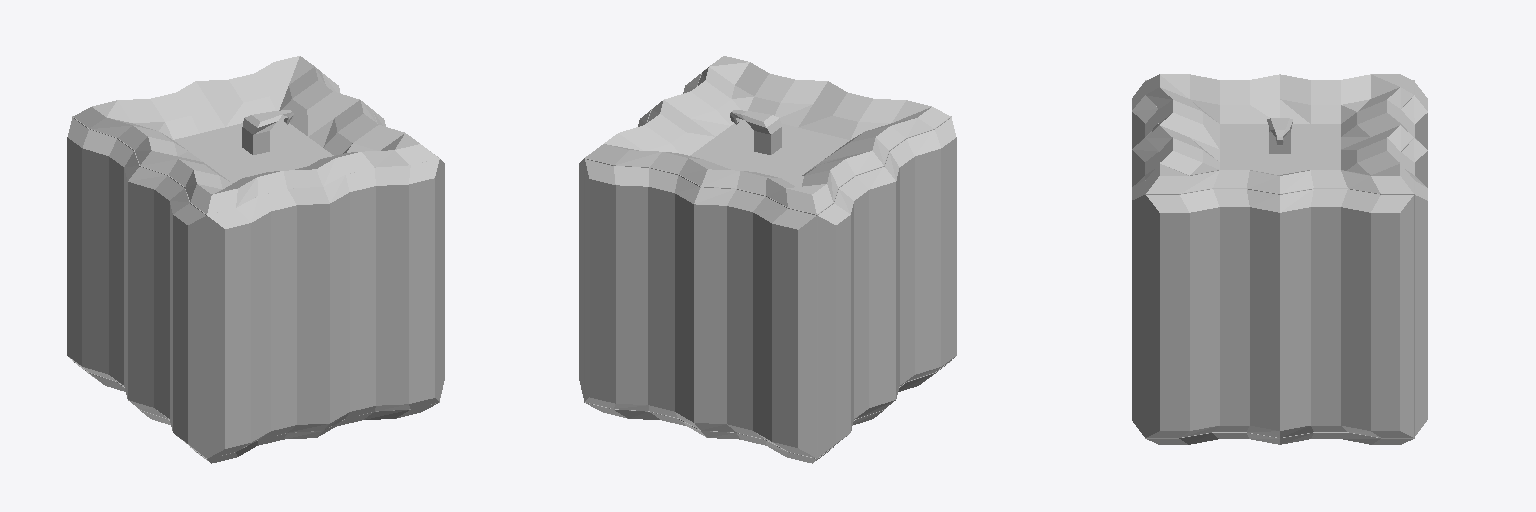
The model's file is pumpkin.obj.
The picture shows the model from 3 angles: view 1: azimuth 30°, elevation 25°; view 2: azimuth 150°, elevation 25°; view 3: azimuth 270°, elevation 25°; orthographic projection.
Parts seen in each view (by area): view 1: Cube; view 2: Cube; view 3: Cube.
Part boxes in pixels (x1,y1,x2,y2): Cube: (67,56,444,463); Cube: (579,56,956,463); Cube: (1132,74,1427,444).
Bounding box in the file's own units: 2.2 × 2.26 × 2.2.